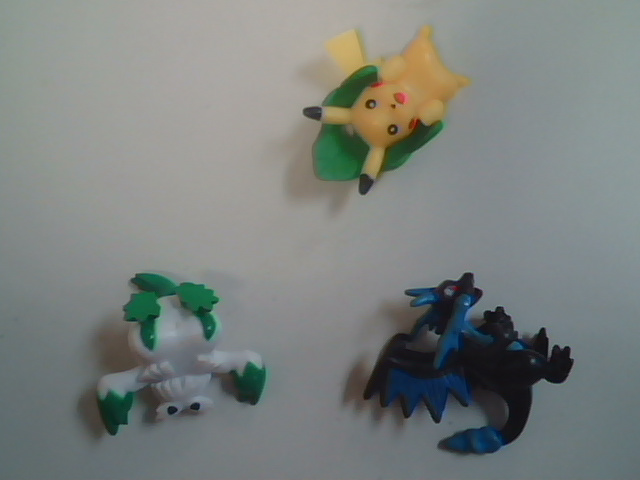abomasnow: (67, 253, 299, 458)
charizard: (362, 276, 587, 475)
pikachu: (282, 12, 518, 243)
